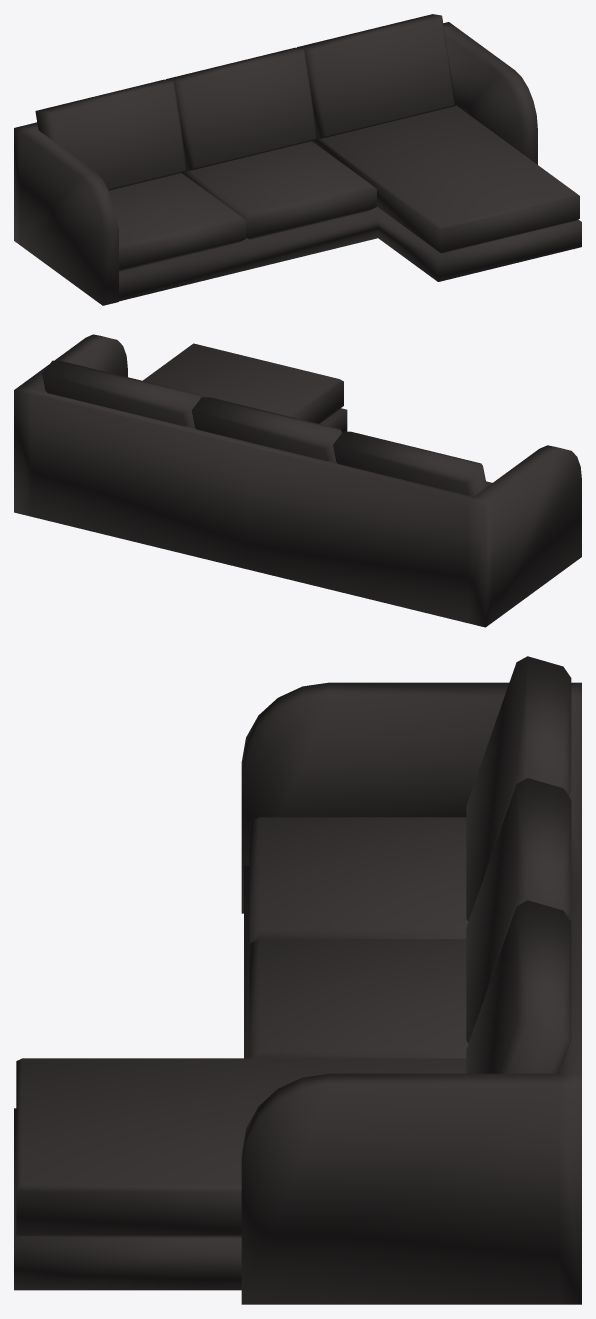
File: Sofa_04.fbx
3 views of the same model, one above another, from view 1: azimuth 30°, elevation 25°; view 2: azimuth 150°, elevation 25°; view 3: azimuth 270°, elevation 25° (orthographic). The views are drawn at different scales.
Parts seen in each view (by area): view 1: Sofa_04; view 2: Sofa_04; view 3: Sofa_04.
Boxes of the visible parts, <box> form: Sofa_04: <box>14,14,581,305</box>; Sofa_04: <box>14,334,581,627</box>; Sofa_04: <box>14,656,581,1304</box>.
Bounding box in the file's own units: 324 × 95.87 × 191.
